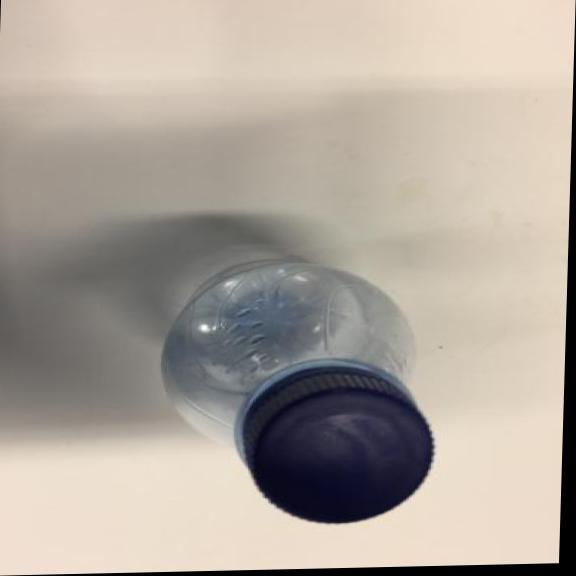Plastik: (149, 246, 449, 532)
